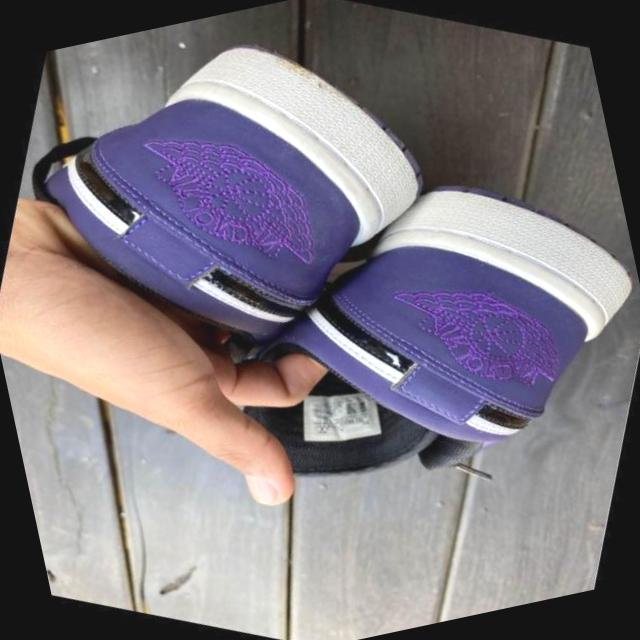nike_fake_jordan: (0, 0, 506, 450), (264, 114, 640, 529)
